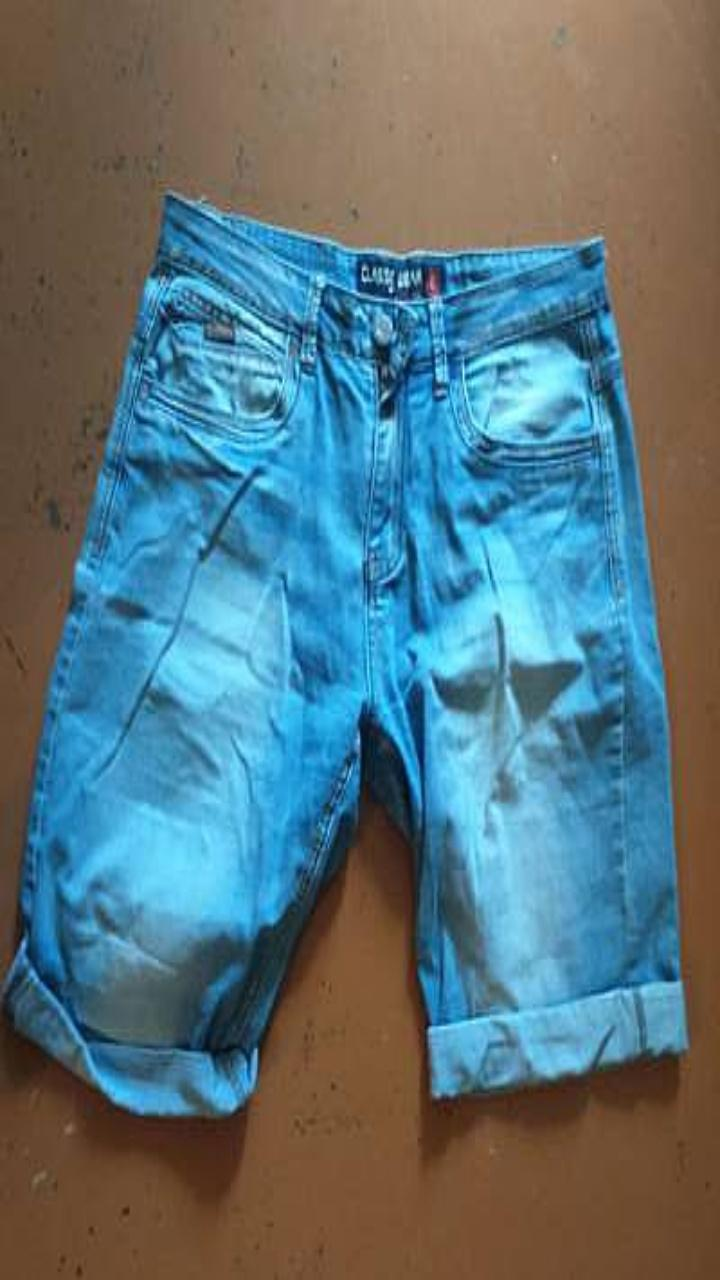Shorts: (3, 190, 687, 1114)
